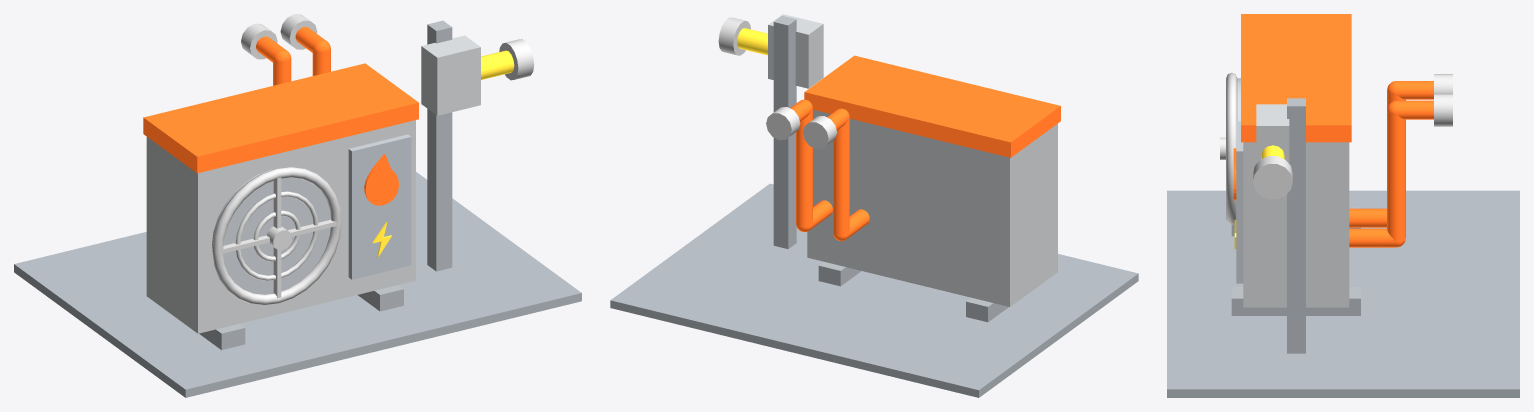
Rendered from LoadHeatpump.glb.
3 renders of one model, left to right at view 1: azimuth 30°, elevation 25°; view 2: azimuth 150°, elevation 25°; view 3: azimuth 270°, elevation 25°, orthographic. The views are drawn at different scales.
Parts seen in each view (by area): view 1: plinth, unit, band, fan, panel, post, isolator, foot (×2), bar (×2), heat_pipe_cap (×2), badge_flame, terminal_cap (+1 smaller); view 2: plinth, unit, band, post, heat_pipe (×2), isolator, heat_pipe_cap (×2), foot (×2), terminal_cap, terminal_stub; view 3: plinth, unit, band, heat_pipe (×5), post, fan, isolator, foot, terminal_cap, panel, heat_pipe_cap (×2).
Boxes of the visible parts, left/top/right/bottom form: plinth: left=14, top=172, right=581, bottom=397; unit: left=146, top=120, right=415, bottom=333; band: left=143, top=63, right=418, bottom=173; fan: left=212, top=167, right=341, bottom=304; panel: left=348, top=134, right=411, bottom=279; post: left=427, top=20, right=452, bottom=271; isolator: left=421, top=35, right=480, bottom=115; foot (×2): left=199, top=285, right=403, bottom=350; bar (×2): left=222, top=177, right=336, bottom=298; heat_pipe_cap (×2): left=241, top=14, right=317, bottom=59; badge_flame: left=364, top=154, right=398, bottom=205; terminal_cap: left=499, top=39, right=534, bottom=80; plinth: left=610, top=183, right=1138, bottom=397; unit: left=807, top=109, right=1057, bottom=306; band: left=804, top=55, right=1060, bottom=157; post: left=773, top=15, right=796, bottom=248; heat_pipe (×2): left=796, top=109, right=849, bottom=236; isolator: left=768, top=14, right=823, bottom=88; heat_pipe_cap (×2): left=766, top=107, right=836, bottom=149; foot (×2): left=818, top=262, right=1008, bottom=322; terminal_cap: left=718, top=17, right=750, bottom=55; terminal_stub: left=737, top=28, right=767, bottom=55; plinth: left=1167, top=190, right=1519, bottom=397; unit: left=1243, top=142, right=1349, bottom=307; band: left=1241, top=14, right=1351, bottom=142; heat_pipe (×5): left=1349, top=81, right=1433, bottom=247; post: left=1287, top=98, right=1305, bottom=353; fan: left=1220, top=72, right=1240, bottom=224; isolator: left=1256, top=104, right=1289, bottom=163; foot: left=1231, top=287, right=1360, bottom=315; terminal_cap: left=1253, top=156, right=1292, bottom=199; panel: left=1236, top=121, right=1243, bottom=283; heat_pipe_cap (×2): left=1434, top=74, right=1452, bottom=126.
Size of the model in its own units: 2 by 1.2 by 1.5.
